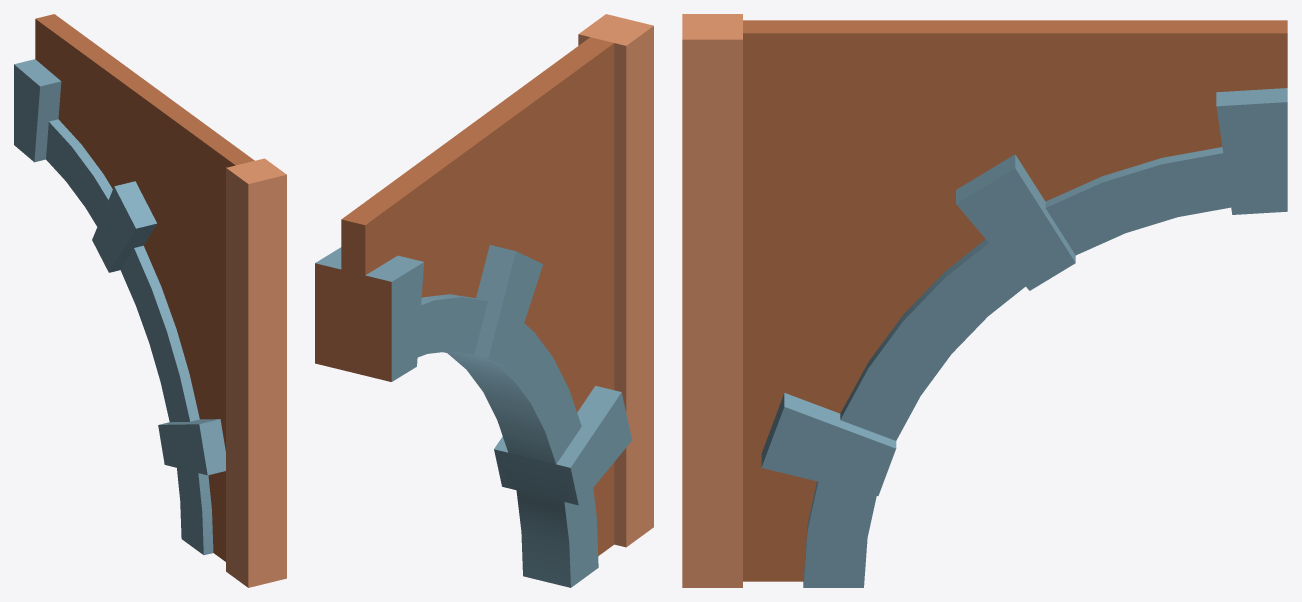
File: wallWoodArchTopDetail.fbx
3 views of the same model, side by side, from view 1: azimuth 30°, elevation 25°; view 2: azimuth 150°, elevation 25°; view 3: azimuth 270°, elevation 25° (orthographic). The views are drawn at different scales.
Parts seen in each view (by area): view 1: wallWoodArchTopDetail; view 2: wallWoodArchTopDetail; view 3: wallWoodArchTopDetail.
Boxes of the visible parts, x1,y1,x2,y2 form: wallWoodArchTopDetail: (14, 14, 286, 587); wallWoodArchTopDetail: (315, 14, 653, 587); wallWoodArchTopDetail: (682, 14, 1287, 587).
Size of the model in its own units: 1.6 by 10 by 10.
